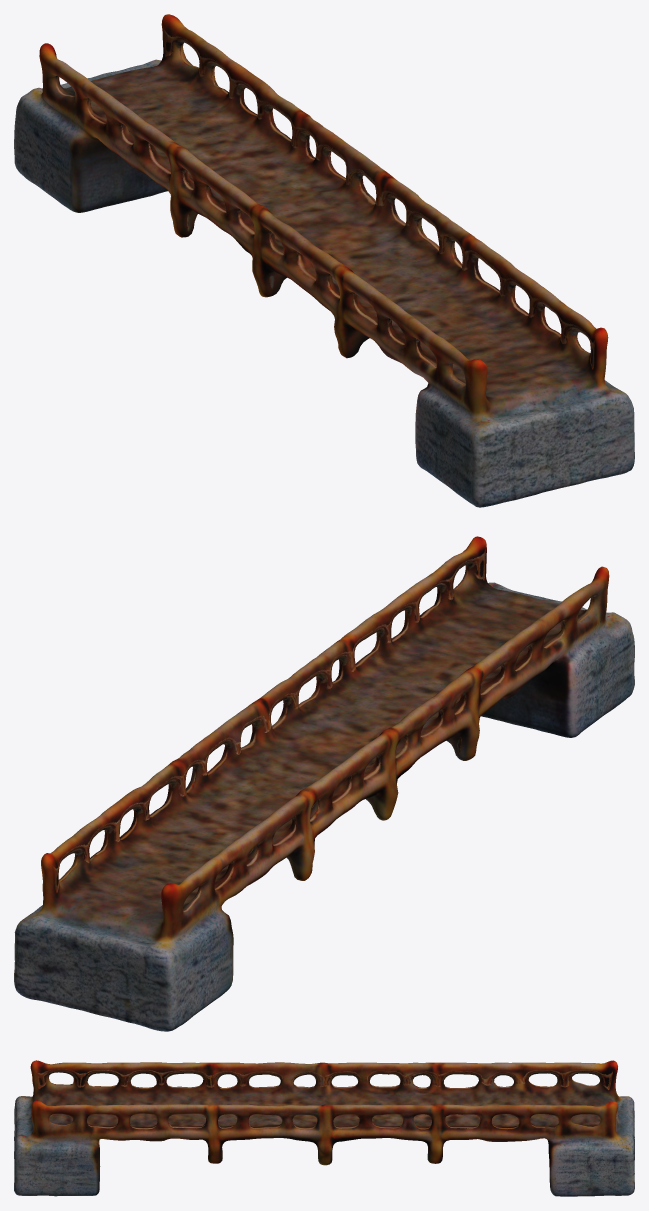
The model's file is d27987ec474e_a_flat_one_way_brid.fbx.
3 renders of one model, top to bottom at view 1: azimuth 30°, elevation 25°; view 2: azimuth 150°, elevation 25°; view 3: azimuth 270°, elevation 25°, orthographic. The views are drawn at different scales.
Parts seen in each view (by area): view 1: mesh; view 2: mesh; view 3: mesh.
Boxes of the visible parts, x1,y1,x2,y2 form: mesh: (14,14,634,507); mesh: (14,536,634,1031); mesh: (14,1060,634,1196).
Bounding box in the file's own units: 20.05 × 16.25 × 99.95.
